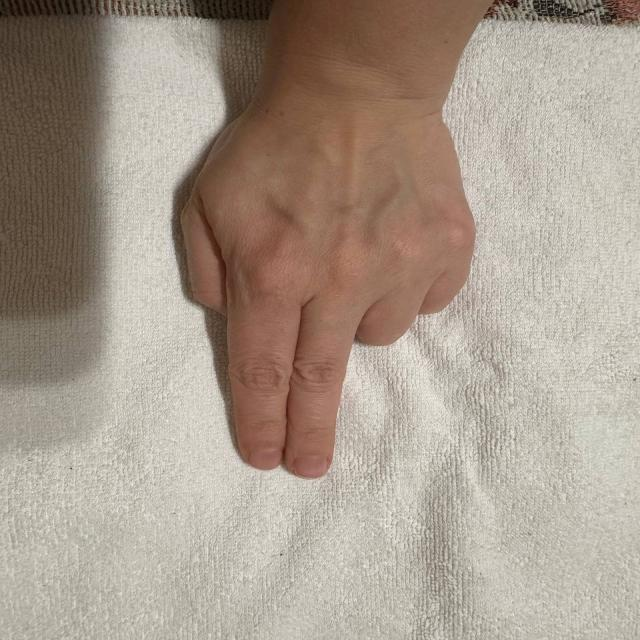p: (184, 78, 516, 470)
